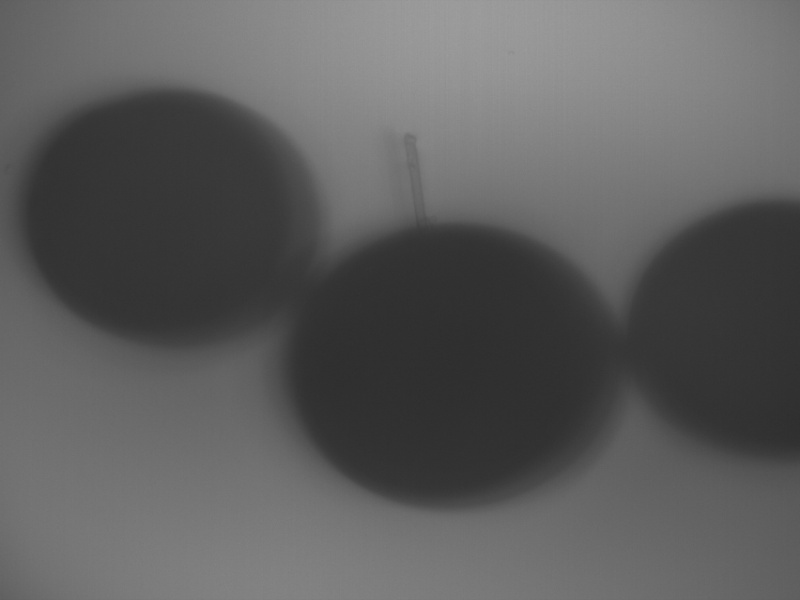bead: (283, 221, 627, 513), (22, 88, 326, 351), (628, 199, 800, 467)
fiber: (399, 129, 436, 239)
